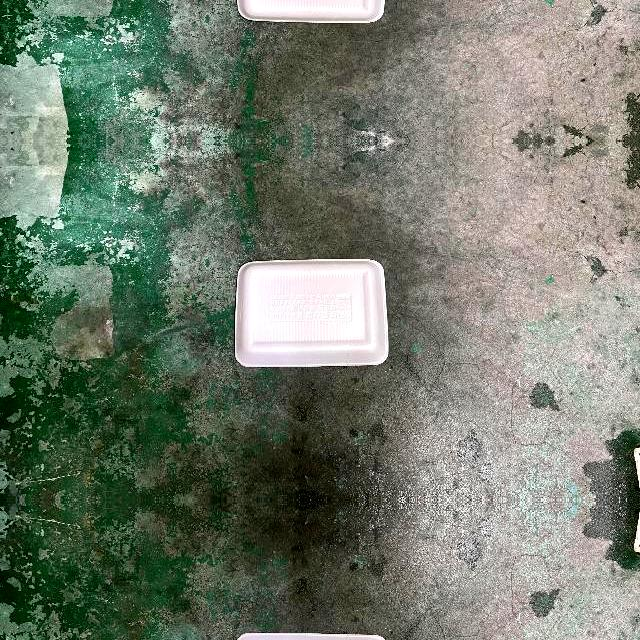Styrofoam: (232, 258, 388, 366), (235, 258, 389, 366), (232, 0, 387, 22)
